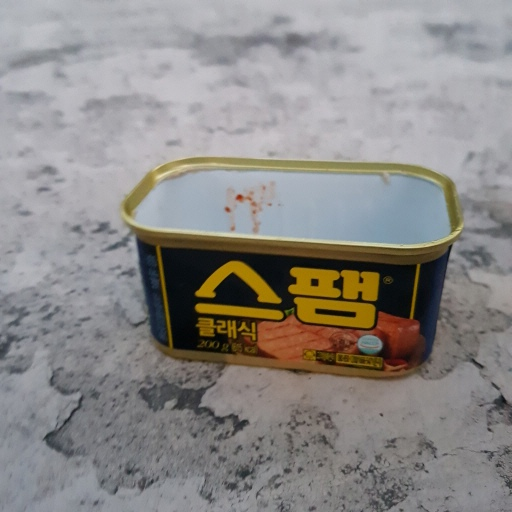Metal_2: (121, 152, 468, 384)
